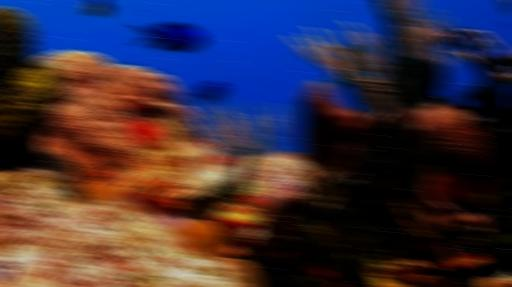Fish: (129, 22, 204, 51), (404, 59, 445, 106), (190, 82, 227, 107), (81, 0, 110, 16), (327, 75, 342, 86)
